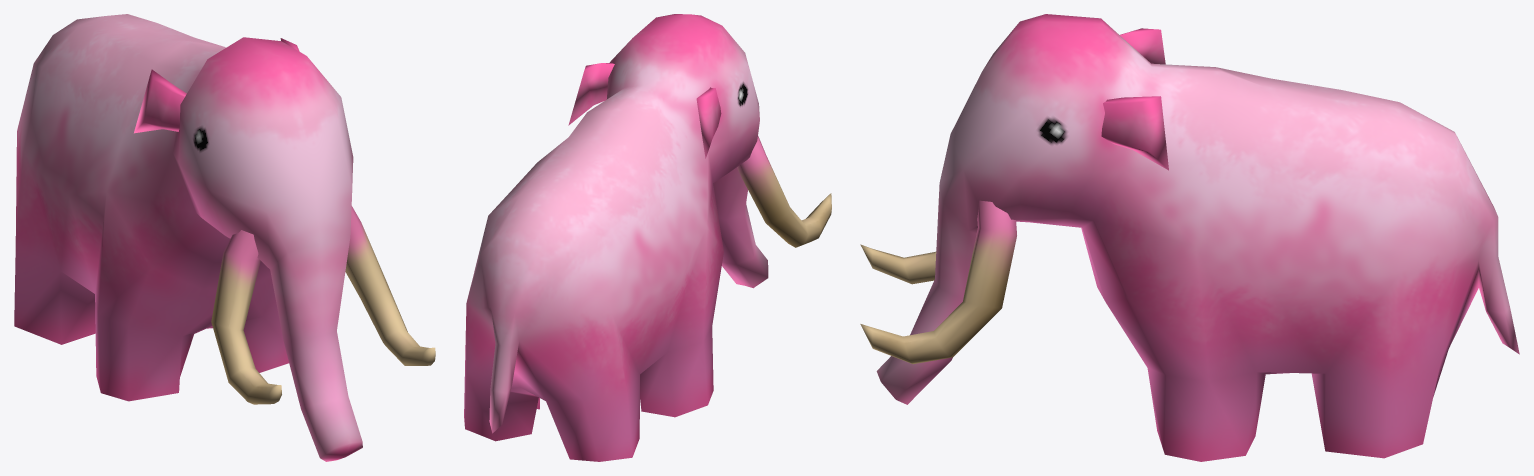
Rendered from Mammoth.fbx.
3 views of the same model, side by side, from view 1: azimuth 30°, elevation 25°; view 2: azimuth 150°, elevation 25°; view 3: azimuth 270°, elevation 25° (orthographic). The views are drawn at different scales.
Visible parts, largest first — view 1: Mammu; view 2: Mammu; view 3: Mammu.
Boxes of the visible parts, left/top/right/bottom form: Mammu: left=14, top=14, right=435, bottom=461; Mammu: left=464, top=14, right=831, bottom=461; Mammu: left=860, top=14, right=1519, bottom=461.
Size of the model in its own units: 455 by 818 by 1245.
